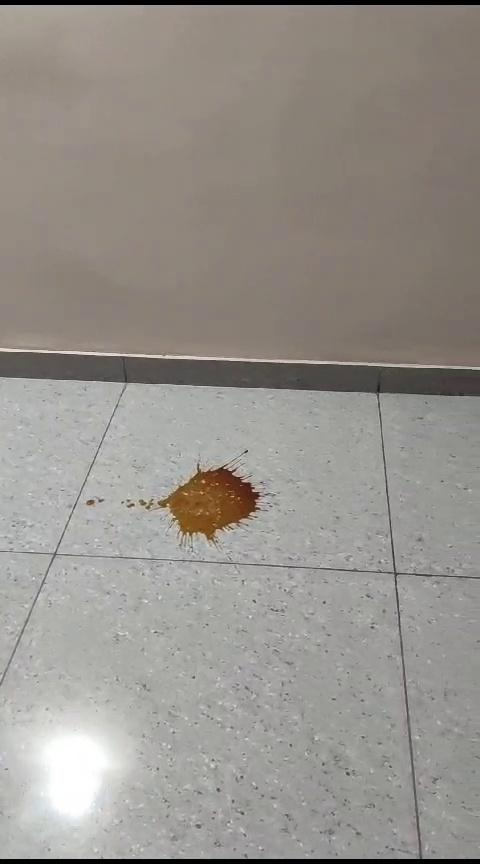dirty_floor: (129, 464, 275, 544)
